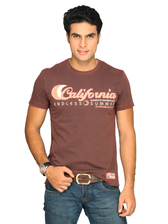clothoes: (26, 56, 138, 184)
watch: (36, 161, 51, 175)
